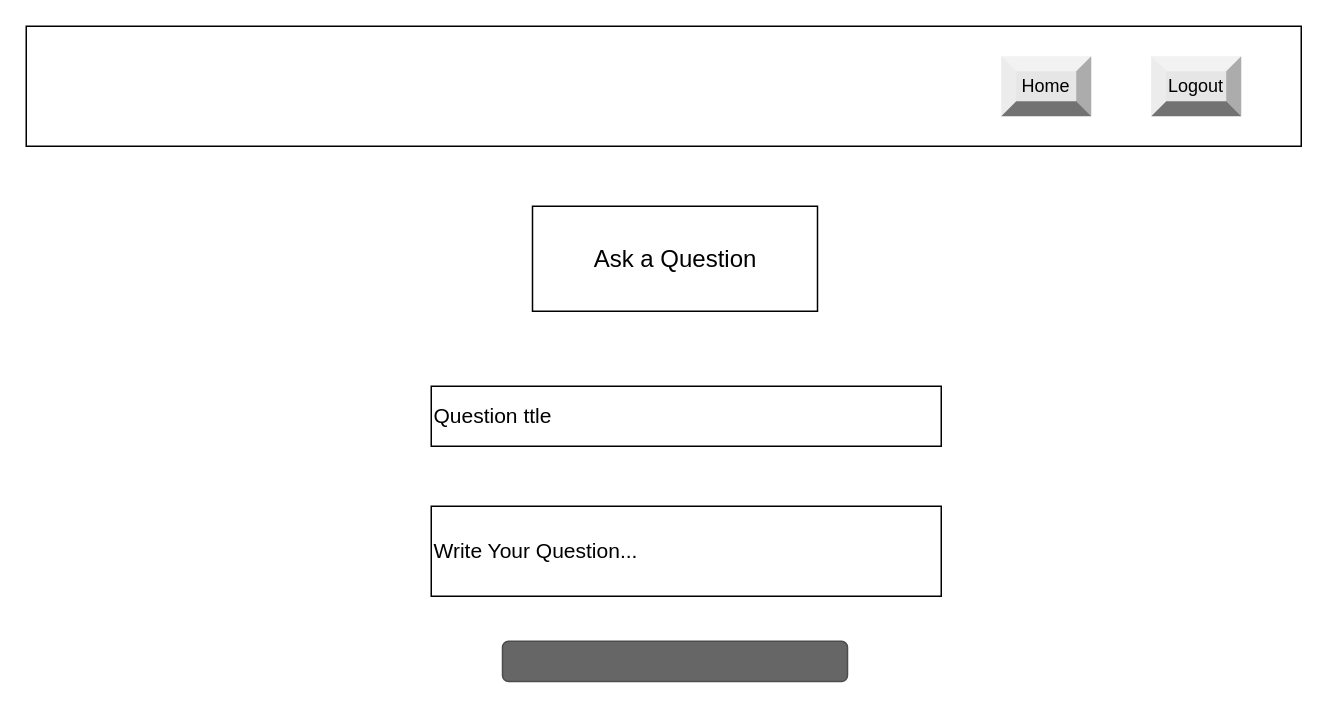
The diagram is 1328 pixels wide and 708 high, and some of its shapes have lost their labels. Each missing label, with the box of its shape:
Navigation Bar: (25, 25, 1301, 146)
Post Your Question: (501, 640, 848, 682)
